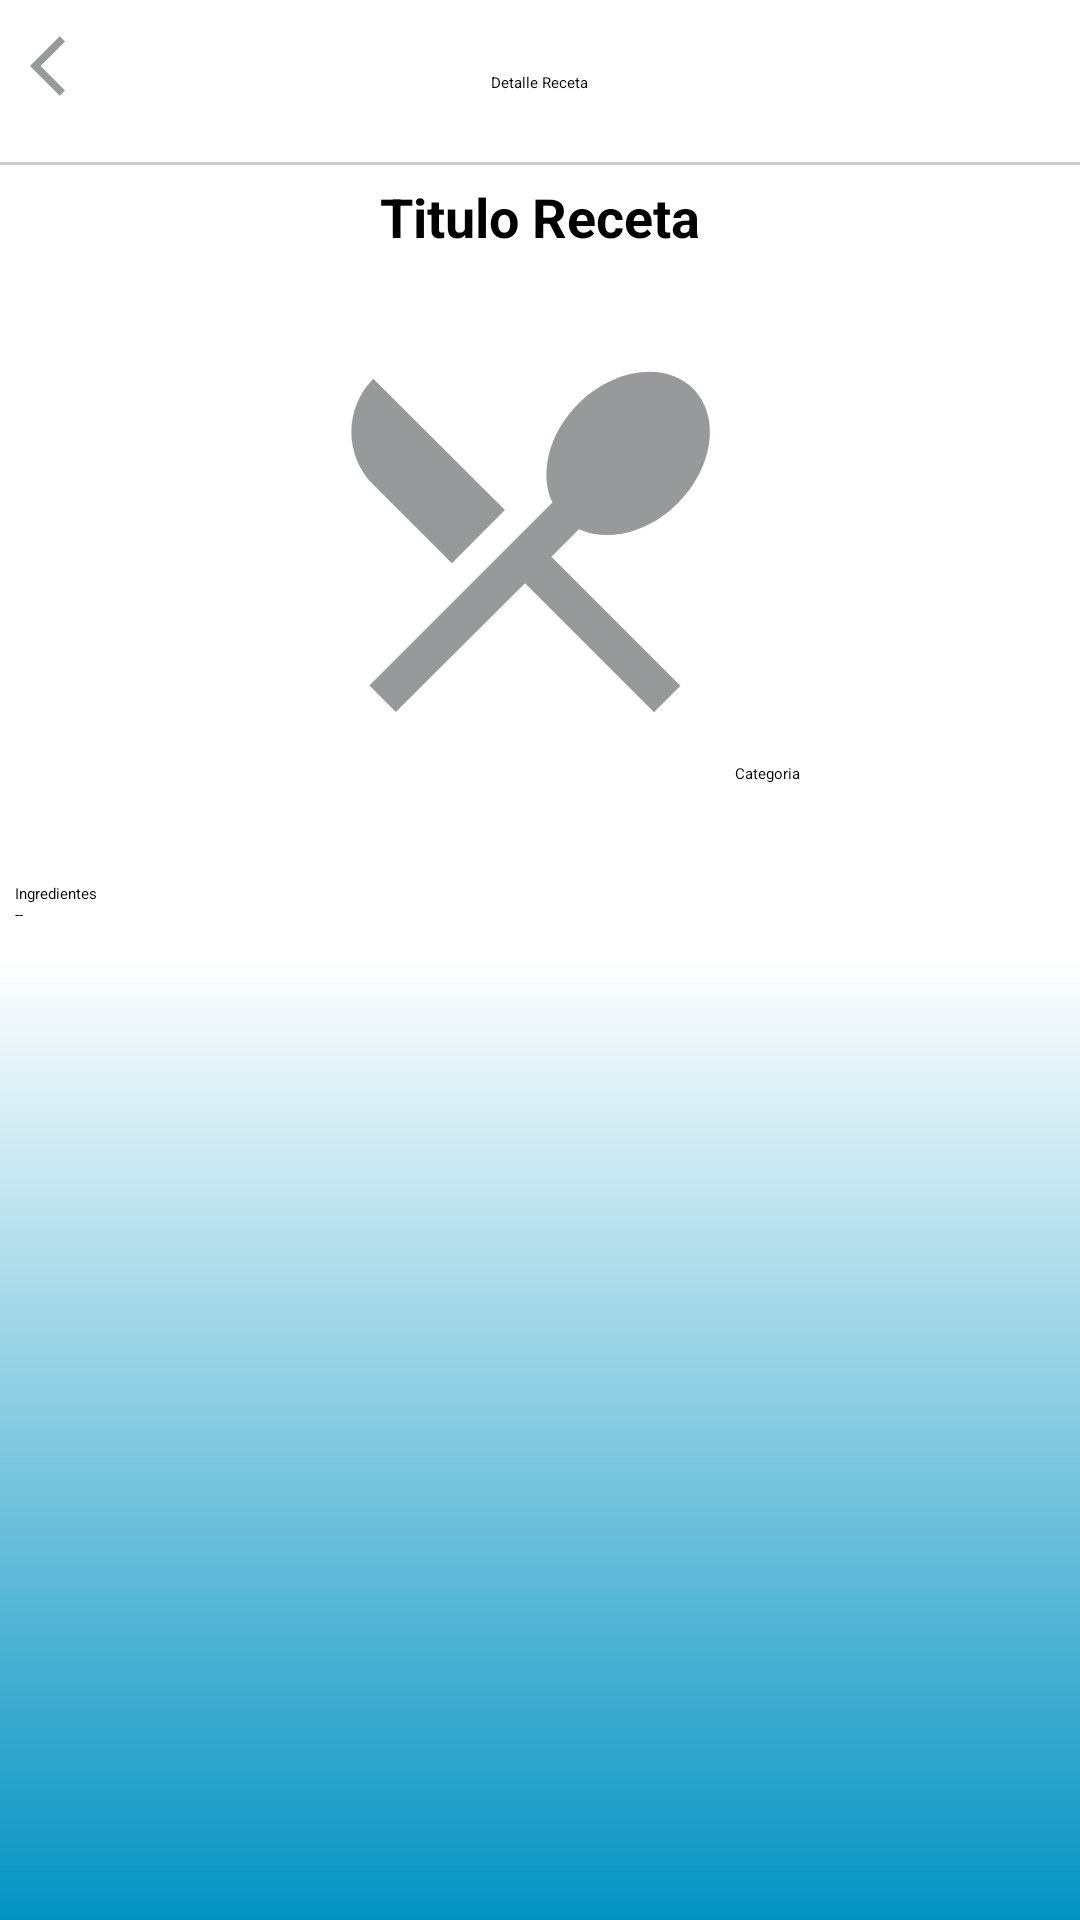

Icons on this 1080w x 1920h Android screen, each with the point to tap as (x=x, y=y):
receta item: (x=530, y=541)
volver: (x=47, y=66)
